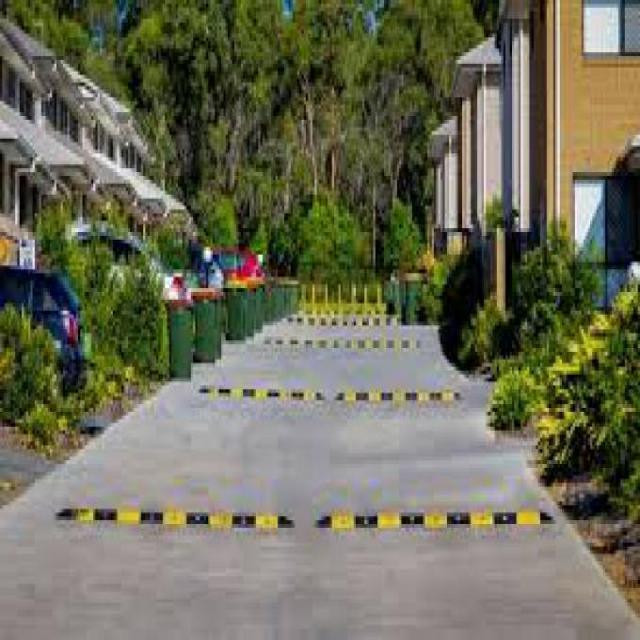Marked Bump: (75, 505, 297, 542), (330, 505, 550, 528), (193, 378, 325, 408), (335, 388, 463, 404)
